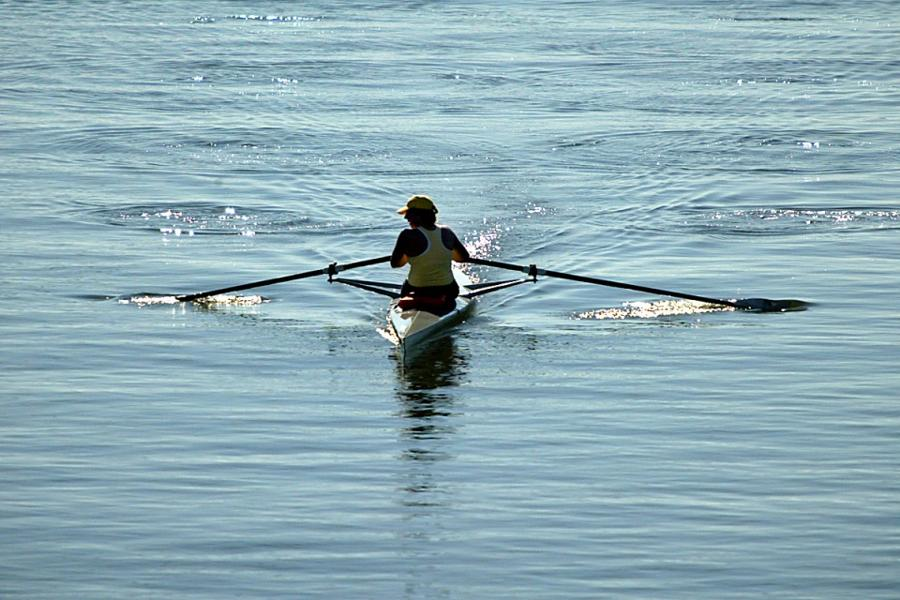person: (391, 196, 471, 317)
